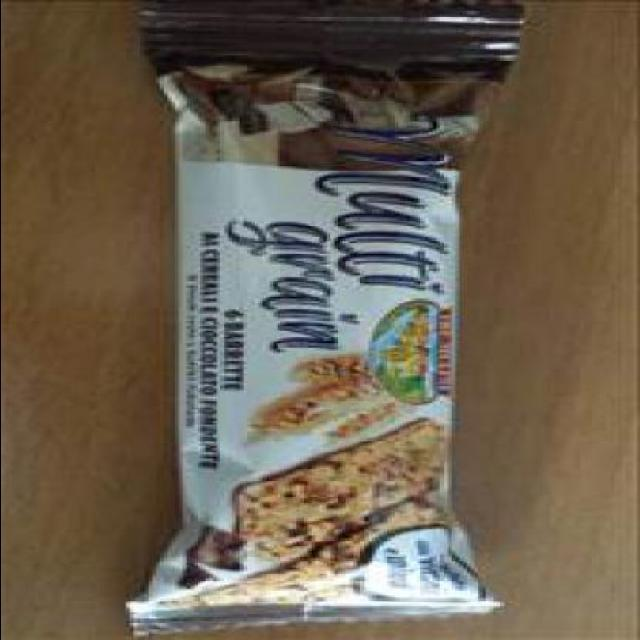Cereal bar: (110, 8, 530, 638)
